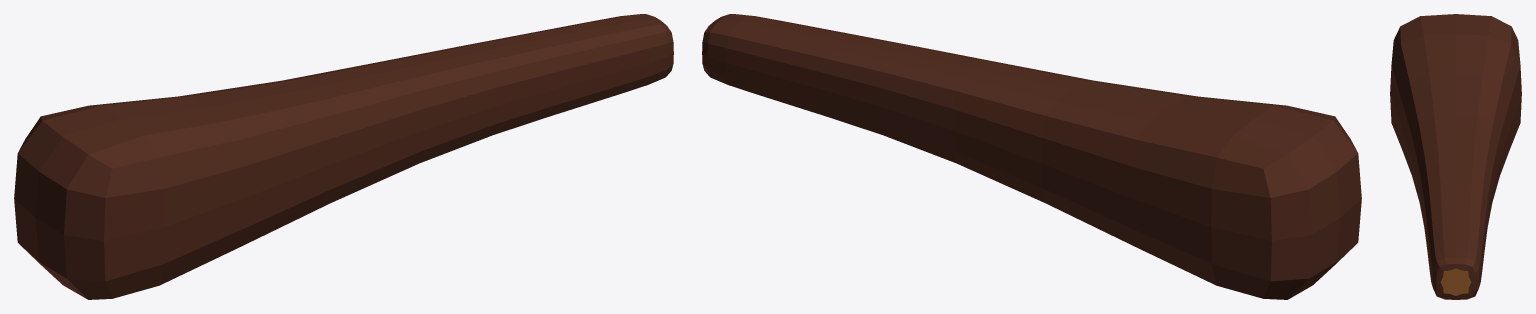
Rendered from StickLeft.fbx.
3 renders of one model, left to right at view 1: azimuth 30°, elevation 25°; view 2: azimuth 150°, elevation 25°; view 3: azimuth 270°, elevation 25°, orthographic. The views are drawn at different scales.
Parts seen in each view (by area): view 1: Веткалев; view 2: Веткалев; view 3: Веткалев.
Part boxes in pixels (x1,y1,x2,y2): Веткалев: (14, 14, 673, 299); Веткалев: (702, 14, 1361, 299); Веткалев: (1390, 14, 1521, 299).
Bounding box in the file's own units: 382 × 89.6 × 89.6.
